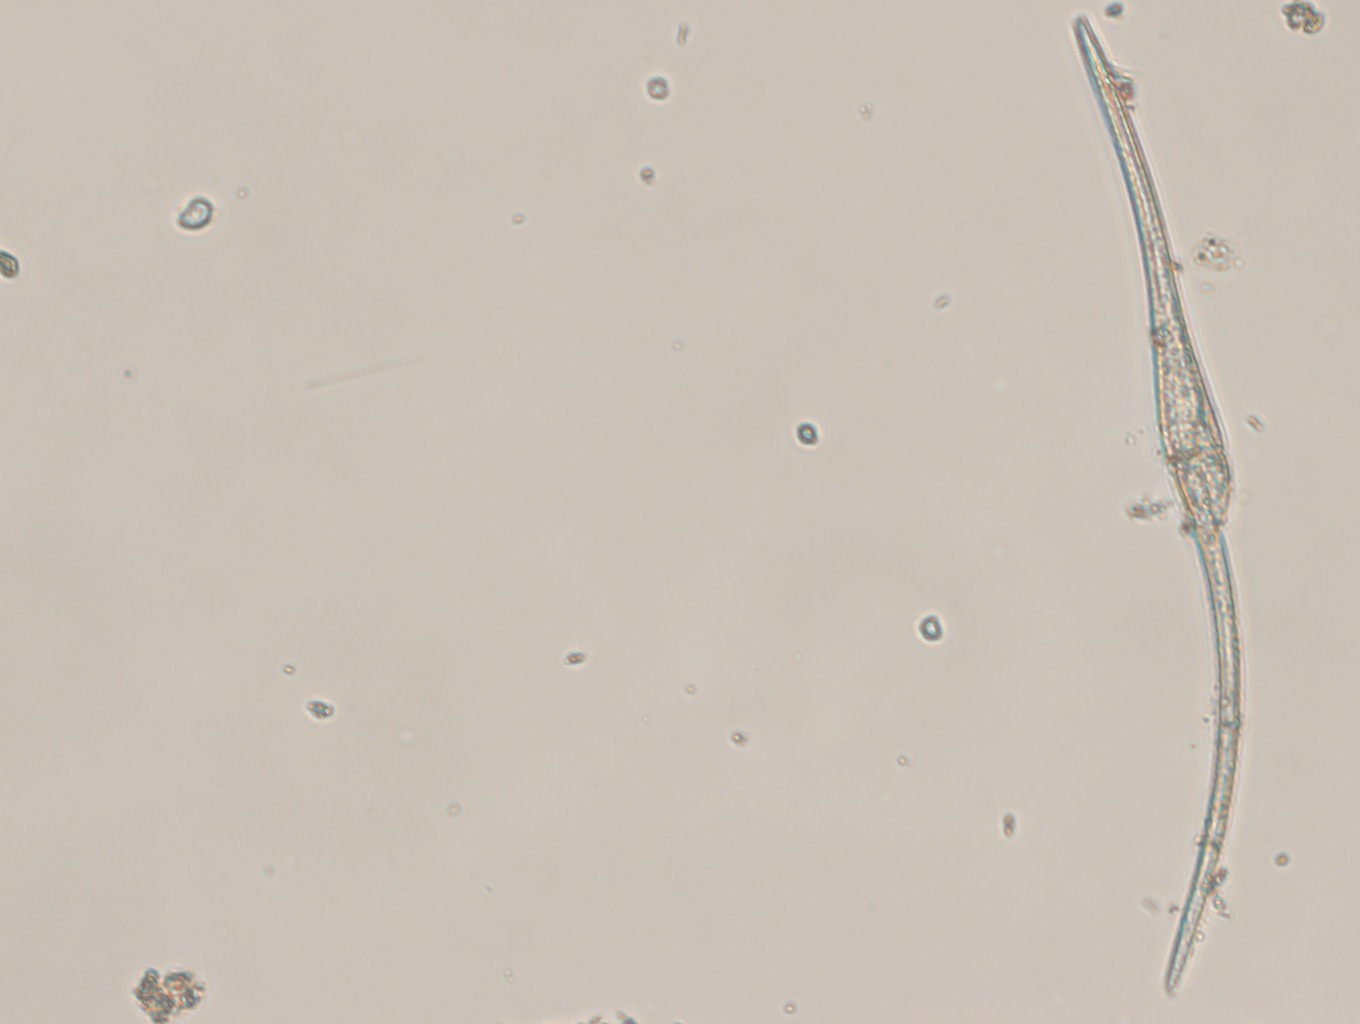ceratium fusus: (1049, 5, 1259, 1001)
